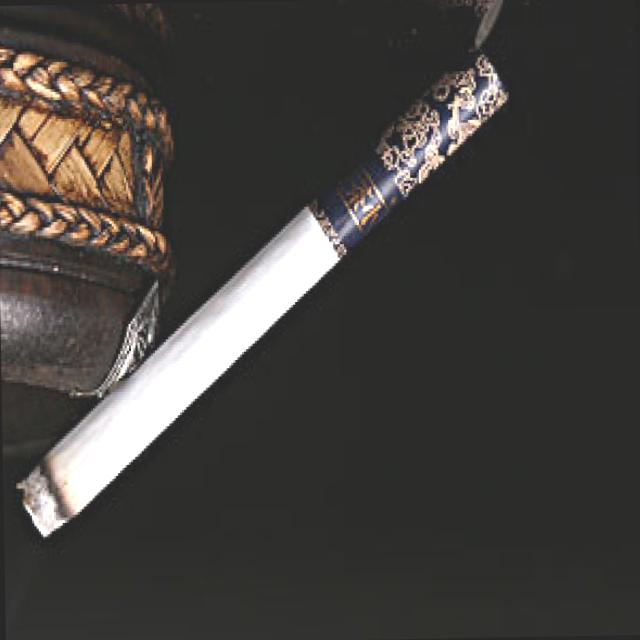smoke: (11, 207, 327, 539)
